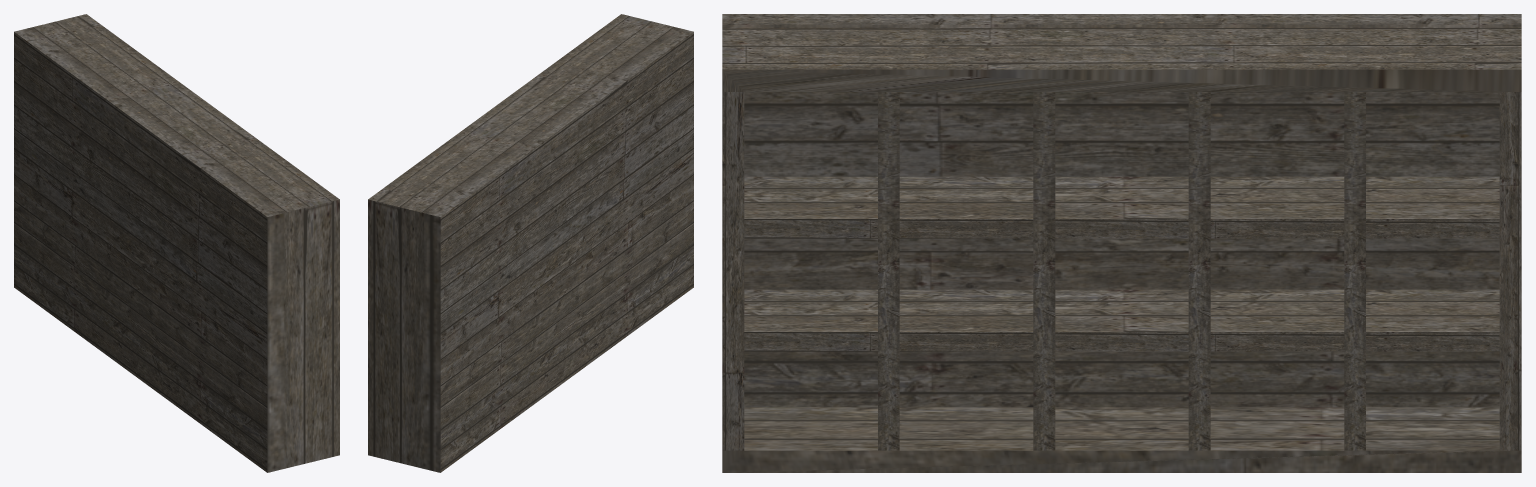
The model's file is Cubby.fbx.
The picture shows the model from 3 angles, left to right: view 1: azimuth 30°, elevation 25°; view 2: azimuth 150°, elevation 25°; view 3: azimuth 270°, elevation 25°; orthographic projection. The views are drawn at different scales.
Visible parts, largest first — view 1: Cube.001; view 2: Cube.001; view 3: Cube.001.
Boxes of the visible parts, box(x1,y1,x2,y2) form: Cube.001: box(14, 14, 339, 472); Cube.001: box(368, 14, 693, 472); Cube.001: box(722, 14, 1521, 472).
Size of the model in its own units: 53.86 by 181 by 326.
